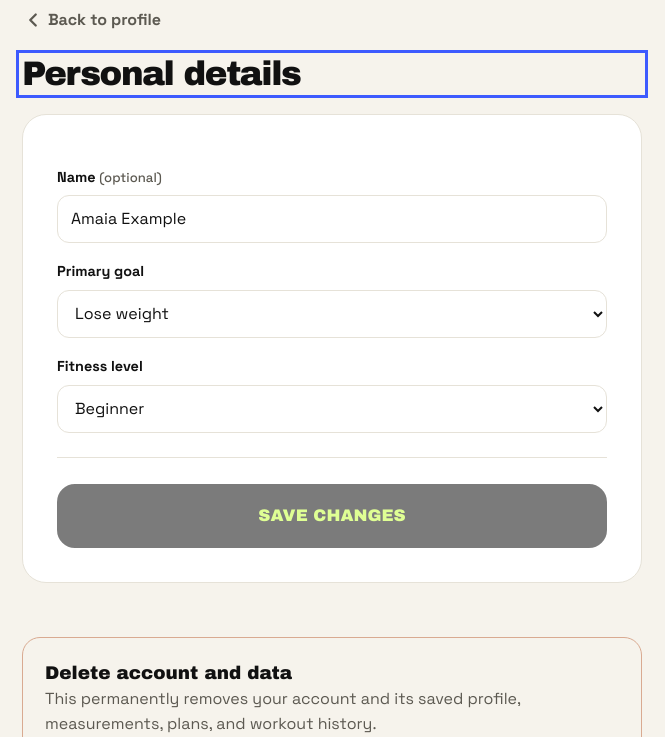
profile redesign › saves personal details independently from training preferences
Replace the text in the field labelled "Name (optional)" with "Updated name" at point(332, 219), box 57,195 -> 607,243
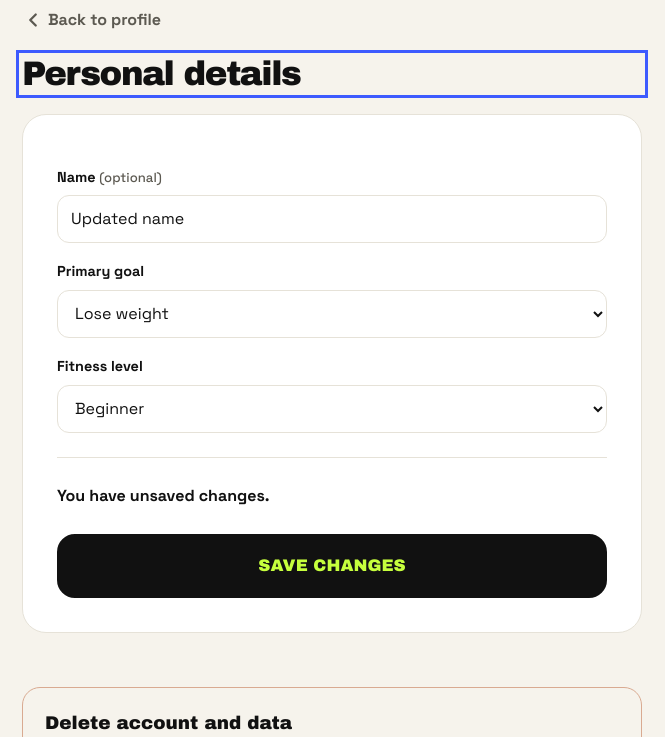
Click the button "Save changes".
click(332, 566)  # box 57,534 -> 607,598
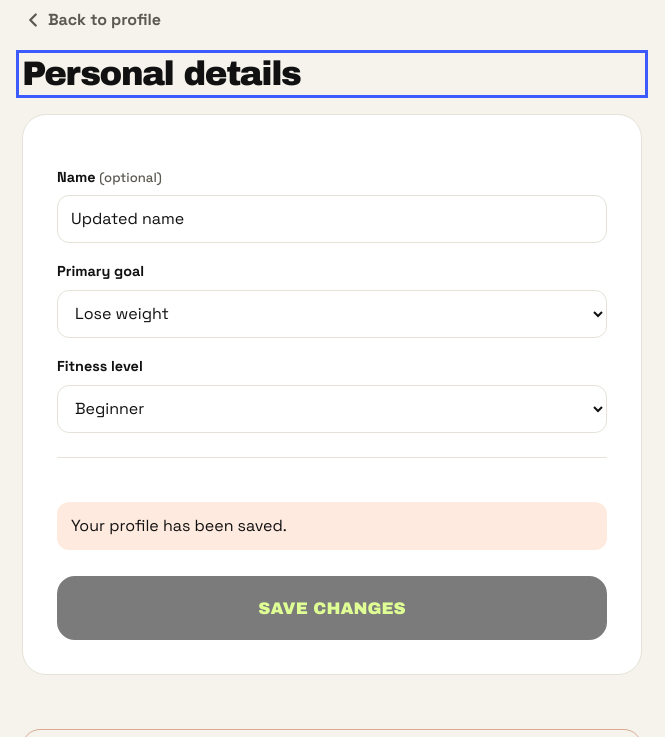
Expected: the text "Your profile has been saved." is shown, 57,502 -> 607,550
